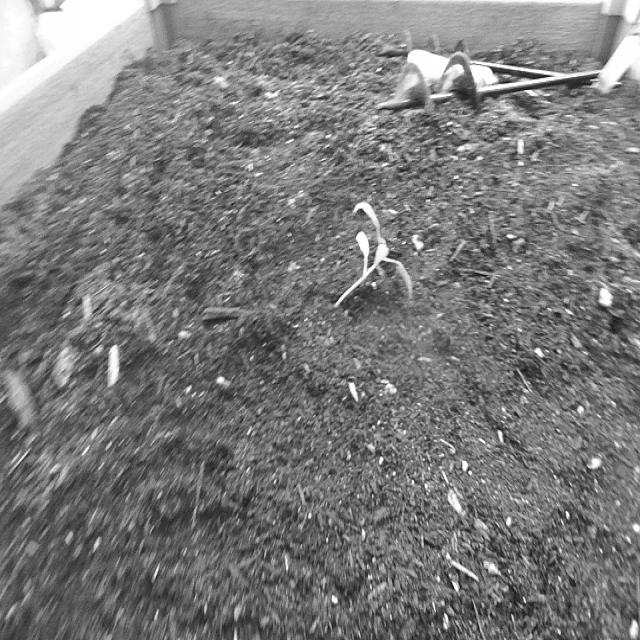Unhealthy: (324, 183, 418, 334)
